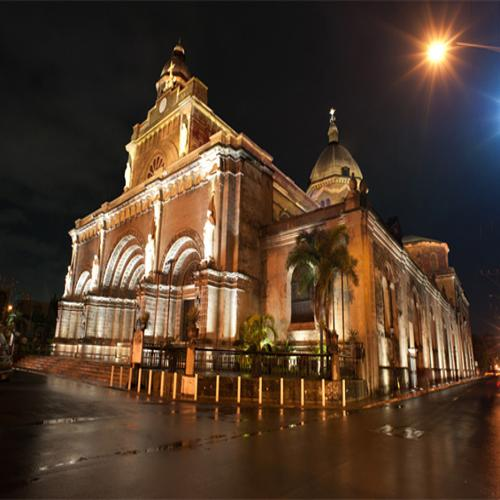Manila Cathedral Church: (29, 22, 483, 407)
